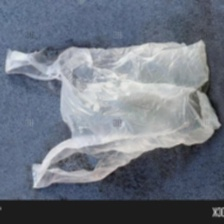plastic_bag: (0, 32, 222, 197)
